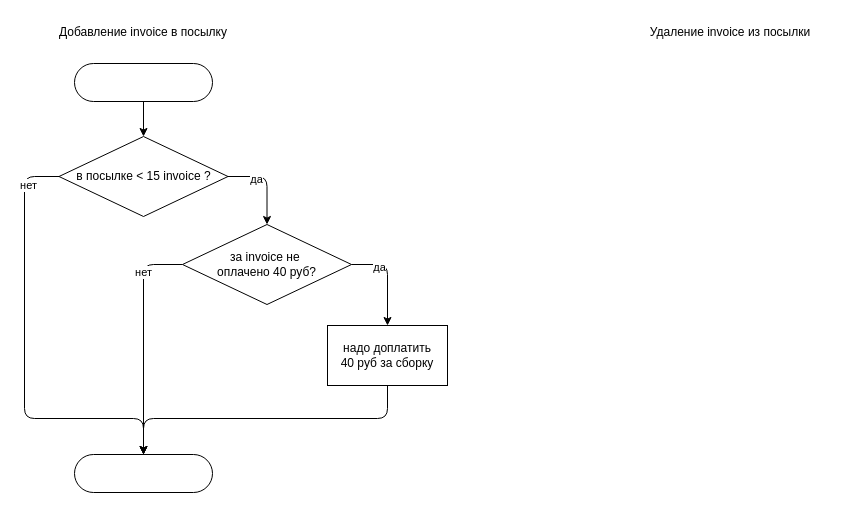
Image size: 858x510. Some labels were removed from this diagram. The shapes that lost their labels are listed below. From the top down, each one's centre as x and y in pixels, then its label:
the point at 143,82: отправка invoice в посылку
the point at 143,473: invoice в посылке
